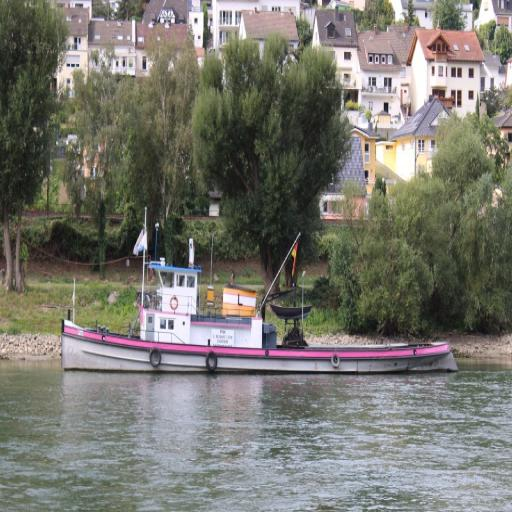tugboat: (60, 204, 463, 388)
